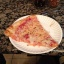pizza: (5, 14, 58, 49)
